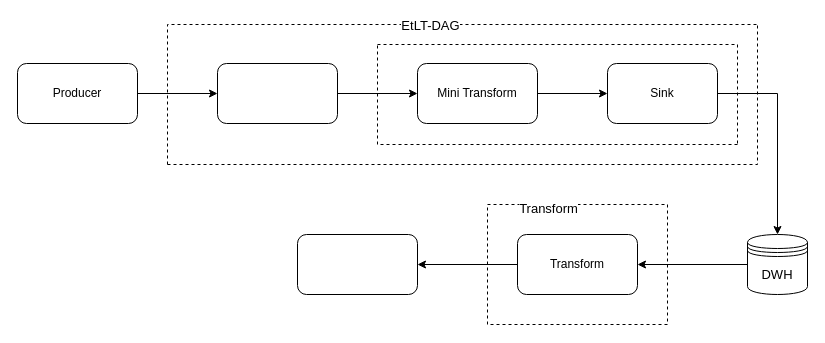
This 825x343 diagram has some shape labels left out. The box of each missing label's shape, as (x1, y1, x2, y2) in pixels:
Client: (296, 234, 418, 294)
Source: (216, 62, 338, 124)
